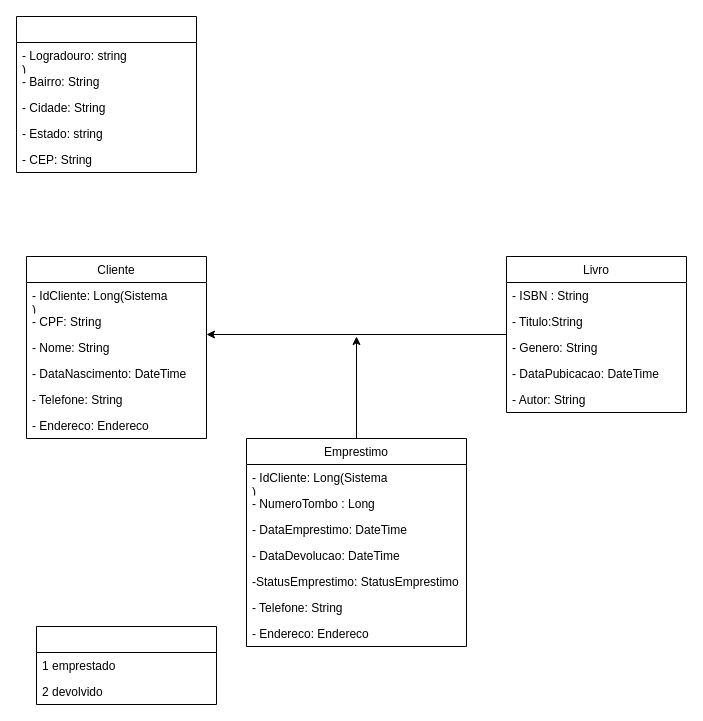
The diagram is 703 pixels wide and 721 high, and some of its shapes have lost their labels. Here are the shapes that lost their labels. From the top down, the box of each, then its label:
(16, 16, 196, 172): Endereco
(36, 626, 216, 704): StatusEmprestimo (ENUM)
